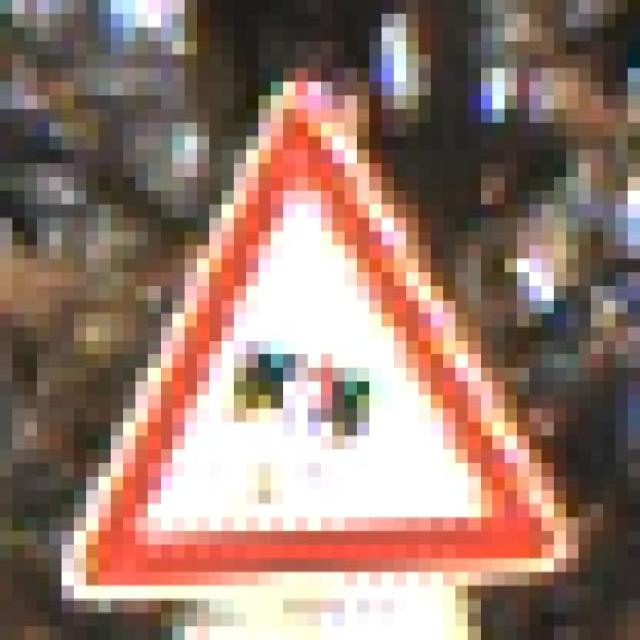Slippery Road Ahead: (56, 70, 584, 601)
